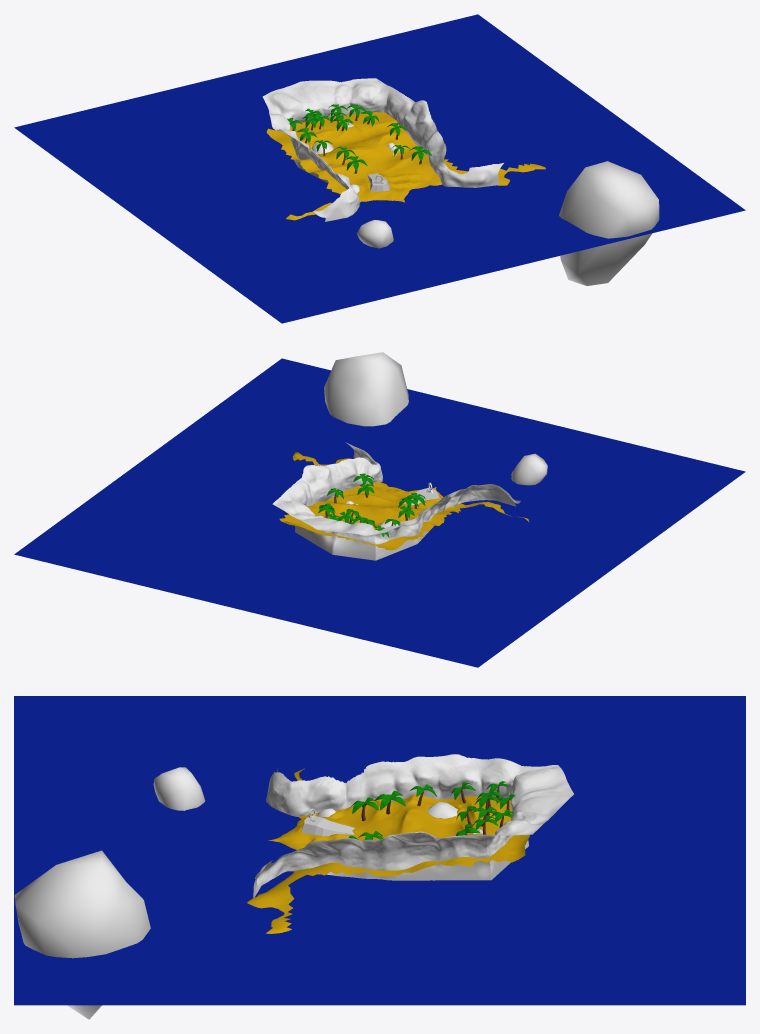
Rendered from Beach.fbx.
3 views of the same model, one above another, from view 1: azimuth 30°, elevation 25°; view 2: azimuth 150°, elevation 25°; view 3: azimuth 270°, elevation 25° (orthographic). The views are drawn at different scales.
Visible parts, largest first — view 1: Water, GroundLowPoly, Icosphere.005, RockWallLowPoly, RockWallLowPoly.004, RockWallLowPoly.003, RockWallLowPoly.006, Icosphere.004, RockWallLowPoly.005; view 2: Water, Icosphere.005, GroundLowPoly, RockWallLowPoly, RockWallLowPoly.004, RockWallLowPoly.003, Icosphere.004; view 3: Water, Icosphere.005, GroundLowPoly, RockWallLowPoly.003, RockWallLowPoly.004, RockWallLowPoly, Icosphere.004, StoneRamp, RockWallLowPoly.006.
Part boxes in pixels (x1,y1,x2,y2): Water: [14, 14, 745, 323]; GroundLowPoly: [266, 112, 545, 220]; Icosphere.005: [559, 161, 659, 285]; RockWallLowPoly: [262, 78, 388, 126]; RockWallLowPoly.004: [384, 86, 449, 186]; RockWallLowPoly.003: [269, 110, 359, 215]; RockWallLowPoly.006: [446, 163, 503, 187]; Icosphere.004: [357, 220, 393, 248]; RockWallLowPoly.005: [313, 194, 349, 221]; Water: [14, 358, 745, 667]; Icosphere.005: [324, 352, 408, 426]; GroundLowPoly: [279, 452, 529, 550]; RockWallLowPoly: [272, 495, 382, 560]; RockWallLowPoly.004: [282, 457, 382, 506]; RockWallLowPoly.003: [374, 484, 491, 560]; Icosphere.004: [511, 453, 547, 485]; Water: [14, 696, 745, 1005]; Icosphere.005: [14, 850, 150, 1019]; GroundLowPoly: [247, 768, 529, 933]; RockWallLowPoly.003: [268, 754, 528, 816]; RockWallLowPoly.004: [284, 831, 501, 880]; RockWallLowPoly: [486, 765, 573, 879]; Icosphere.004: [153, 767, 205, 810]; StoneRamp: [301, 815, 354, 836]; RockWallLowPoly.006: [253, 854, 286, 898].
Size of what is drawn, in the model's own units: 47459 by 11191 by 47459.
